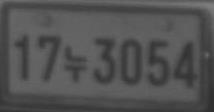0: (119, 38, 143, 85)
1: (12, 33, 35, 82)
3: (93, 37, 116, 84)
4: (173, 41, 199, 89)
5: (146, 39, 170, 87)
7: (36, 35, 61, 80)
누: (63, 45, 89, 83)
